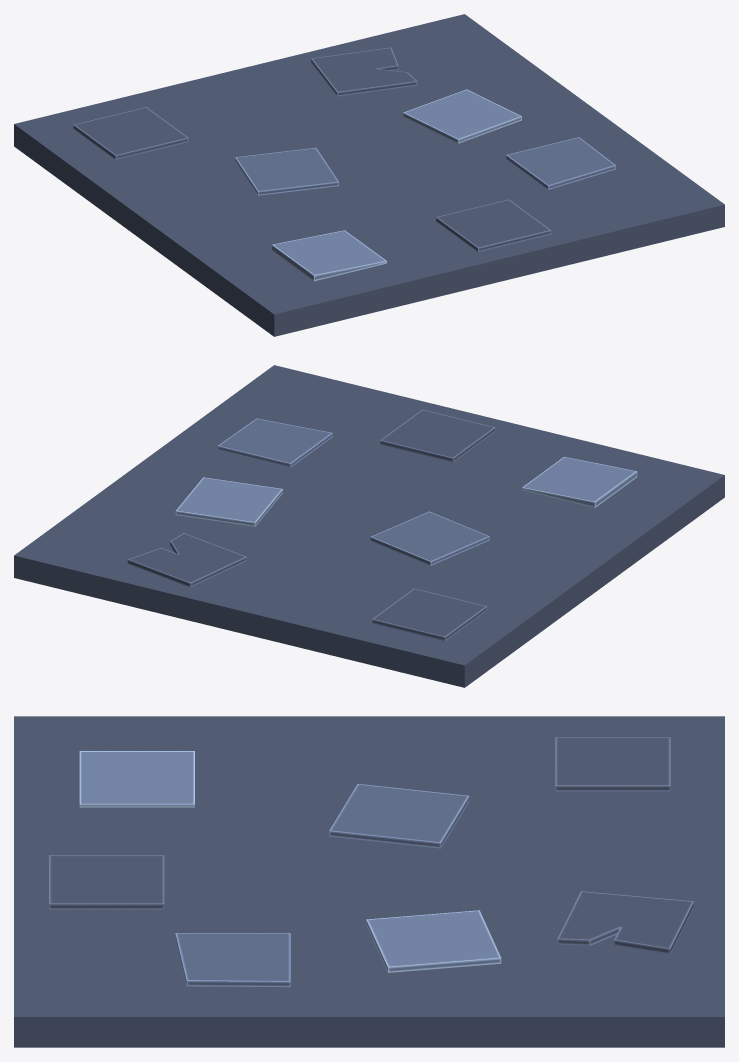
Rendered from tile_2.glb.
3 renders of one model, top to bottom at view 1: azimuth 30°, elevation 25°; view 2: azimuth 150°, elevation 25°; view 3: azimuth 270°, elevation 25°, orthographic. The views are drawn at different scales.
Visible parts, largest first — view 1: Floor 3; view 2: Floor 3; view 3: Floor 3.
Part boxes in pixels (<box>): Floor 3: <box>14,14,724,336</box>; Floor 3: <box>14,365,724,687</box>; Floor 3: <box>14,716,724,1047</box>.
Bounding box in the file's own units: 2 × 0.1194 × 2.
Materials: 1 (1 with a texture image).
